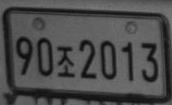0: (35, 36, 54, 76), (99, 39, 117, 80)
1: (119, 40, 138, 81)
2: (78, 38, 97, 79)
3: (140, 42, 159, 82)
9: (14, 34, 33, 75)
조: (56, 45, 75, 77)
